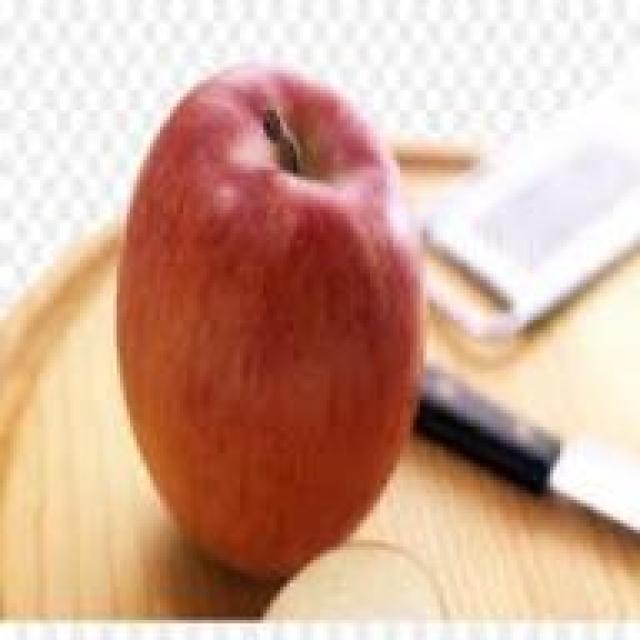apple: (124, 76, 414, 556)
